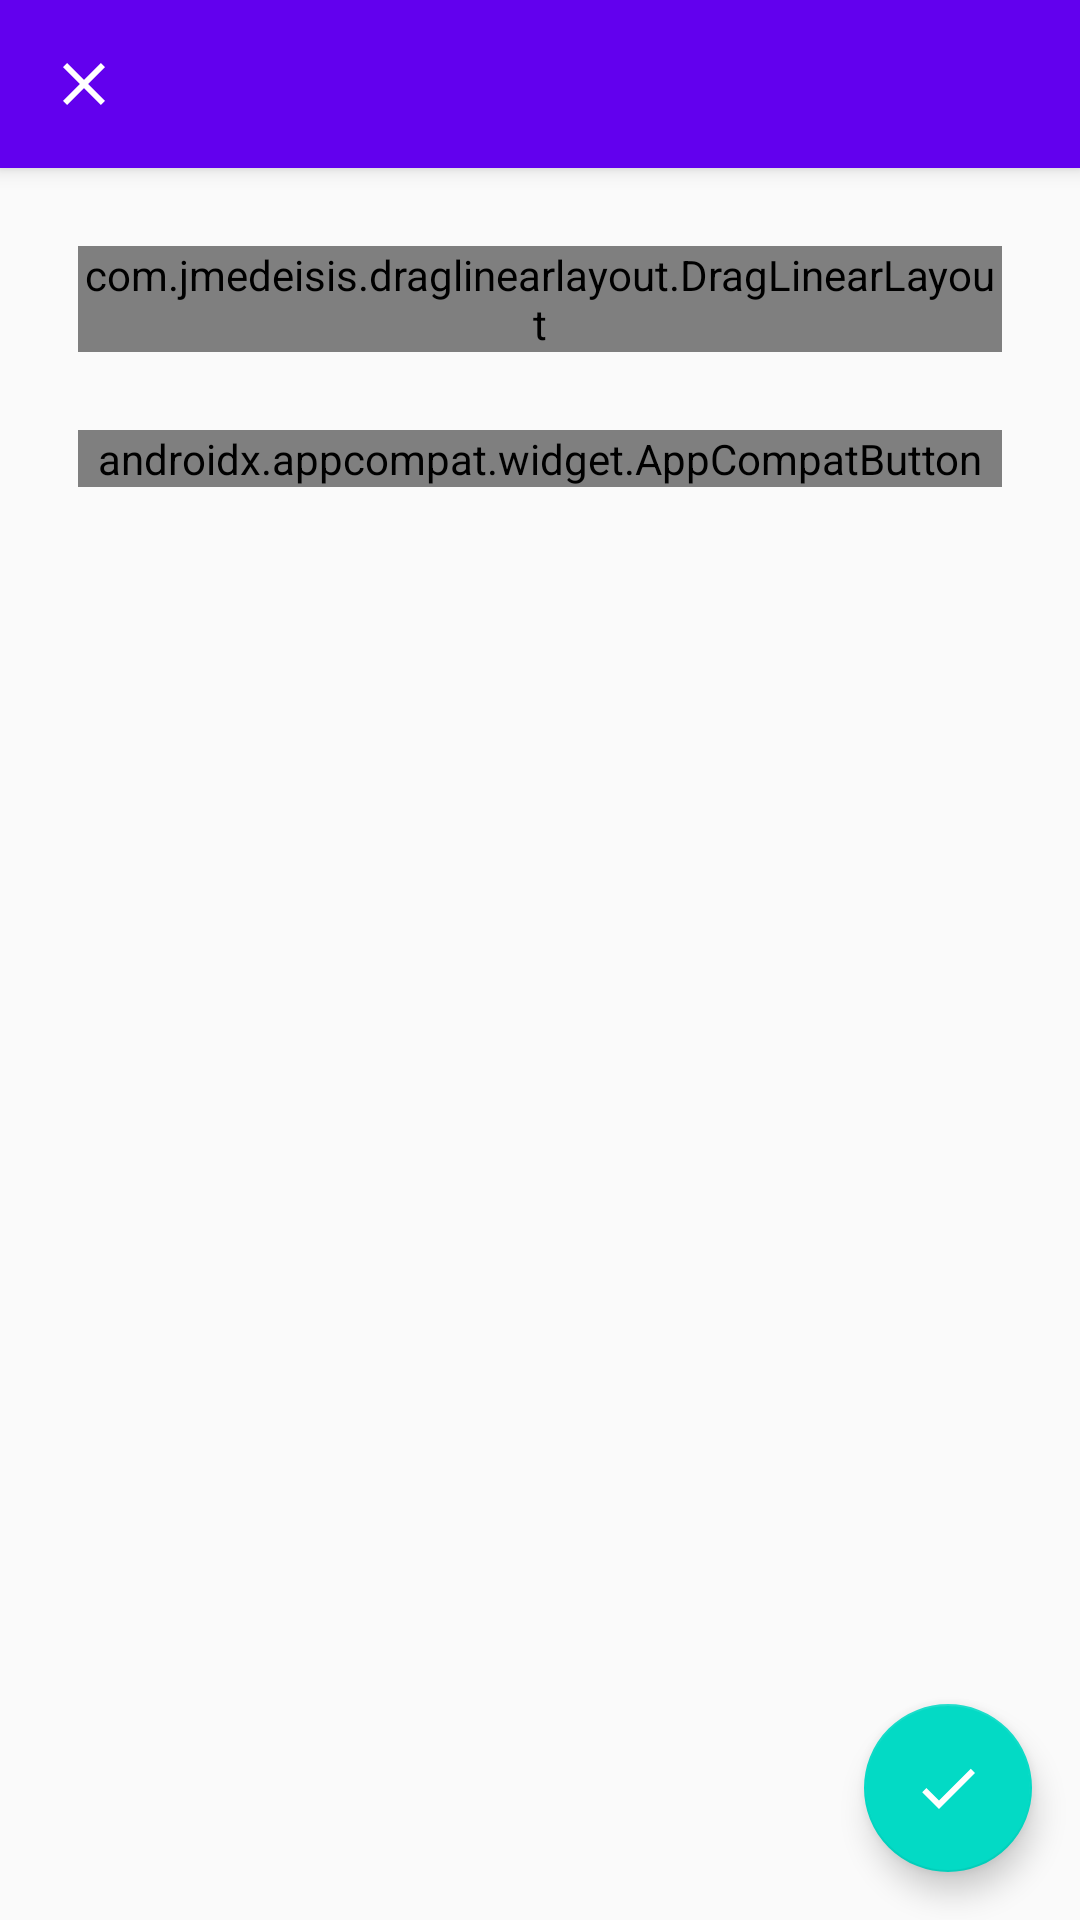

Where to tap for icons on this 1080*1920 app screen, as [x,y]:
complete: [948,1788]
